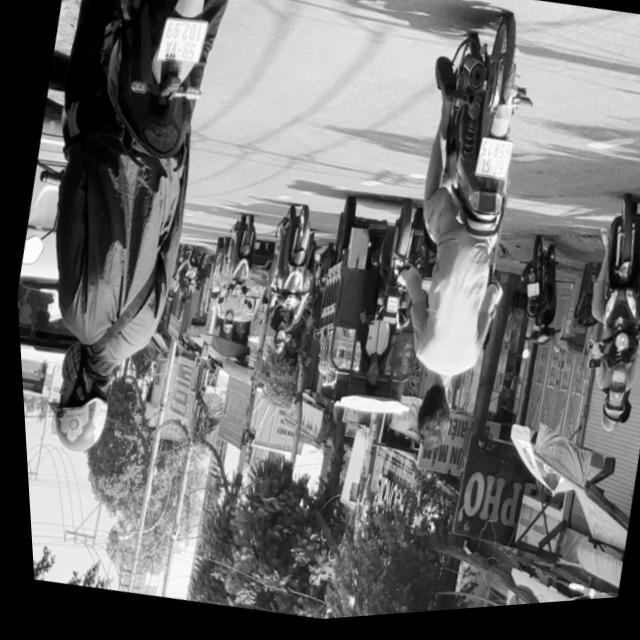helmet: (35, 347, 118, 461), (590, 395, 624, 444)
licenseplate: (0, 0, 266, 481), (348, 5, 565, 466), (552, 198, 640, 450)
motorcyclist: (402, 375, 456, 454), (598, 369, 626, 412)
nohelmet: (154, 18, 208, 71), (471, 143, 511, 189)
